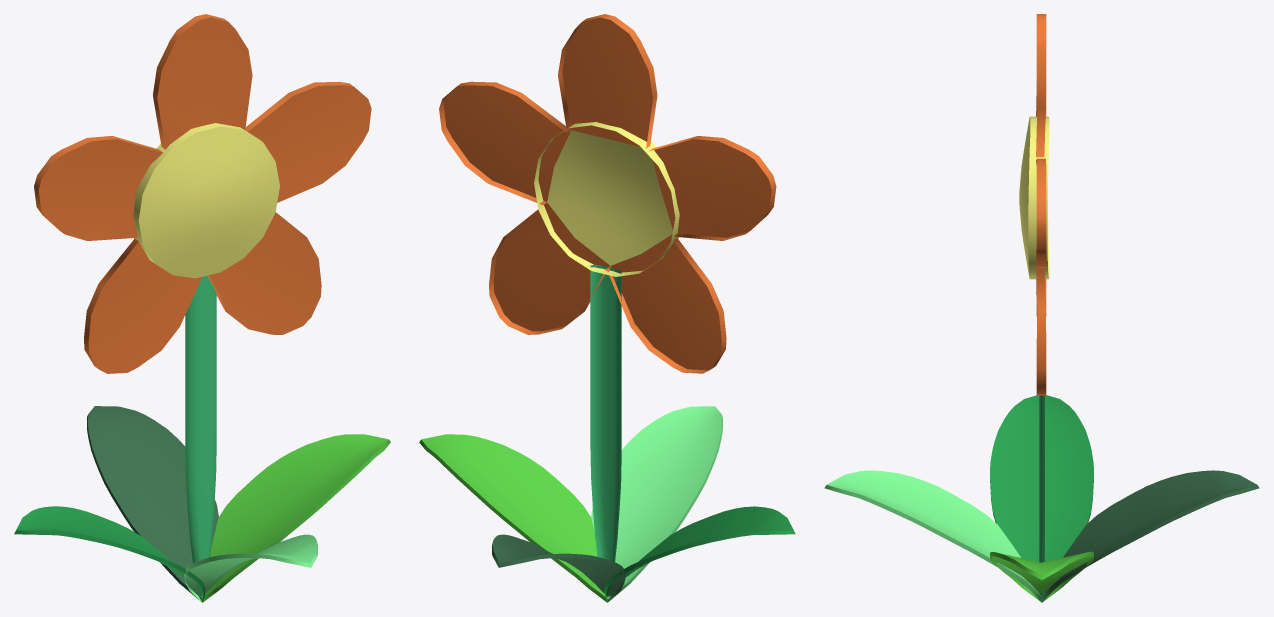
File: Flower.fbx
3 renders of one model, left to right at view 1: azimuth 30°, elevation 25°; view 2: azimuth 150°, elevation 25°; view 3: azimuth 270°, elevation 25°, orthographic.
Visible parts, largest first — view 1: Cylinder001; view 2: Cylinder001; view 3: Cylinder001.
Part boxes in pixels (x1=…): Cylinder001: x1=14, y1=14, x2=390, y2=602; Cylinder001: x1=419, y1=14, x2=795, y2=602; Cylinder001: x1=824, y1=14, x2=1259, y2=602.
Bounding box in the file's own units: 15.81 × 23.49 × 15.81.
